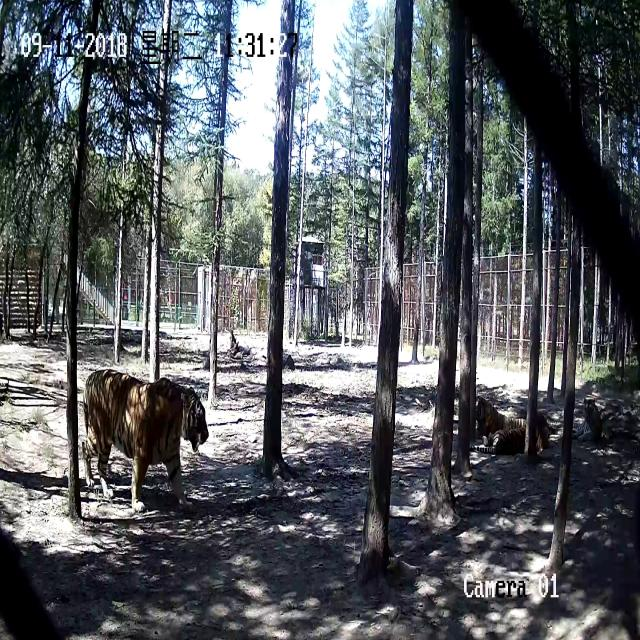Tiger: (82, 372, 213, 522), (464, 386, 553, 464), (574, 382, 611, 444)
